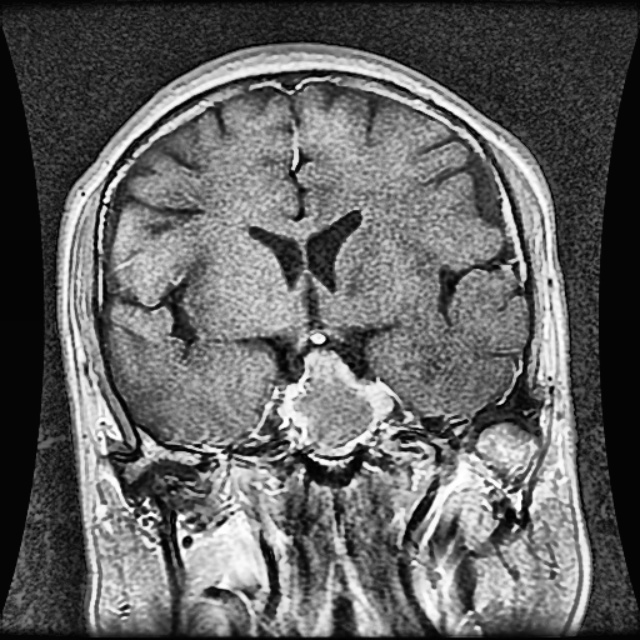Pituitary: (283, 350, 394, 458)
